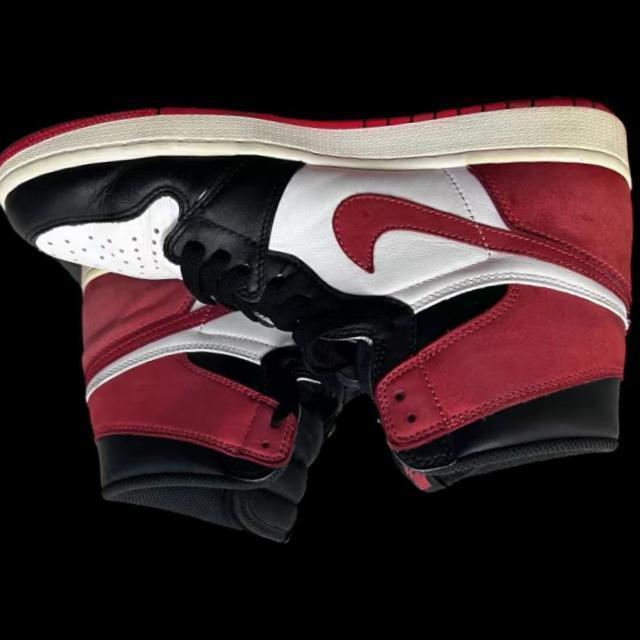nike original jordan 1: (0, 83, 640, 519), (51, 262, 363, 572)
